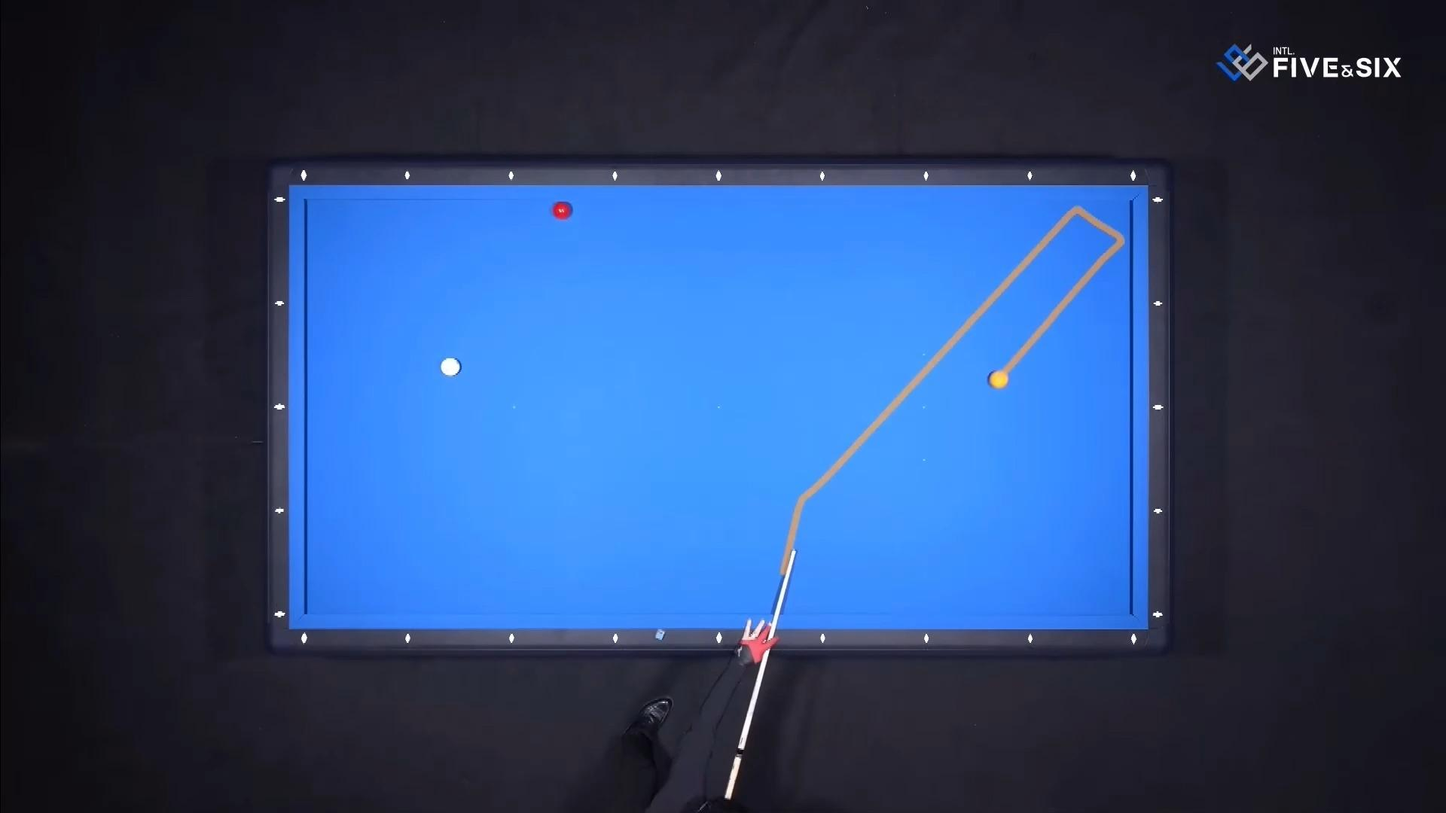Red: (550, 203, 574, 223)
White: (440, 357, 466, 377)
Yellow: (990, 369, 1015, 390)
